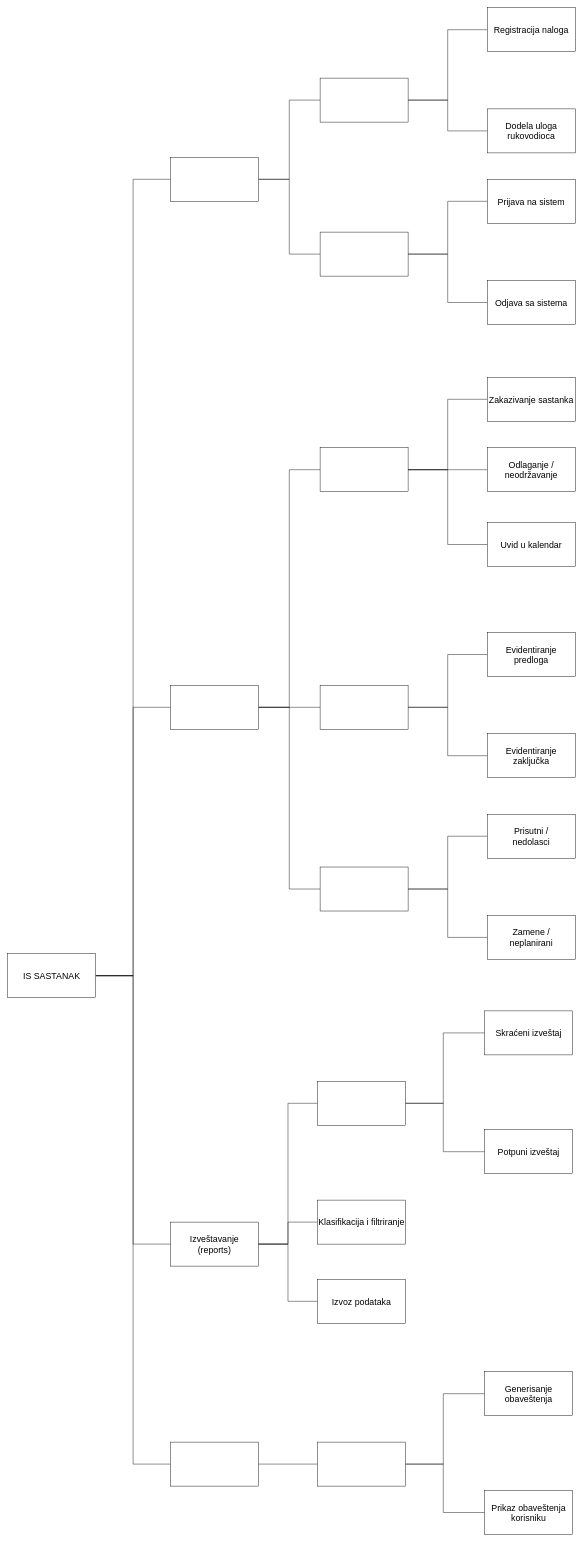
Image size: 583x1542. Some labels were removed from this diagram. The centre of each missing label's shape, as x and y in pixels:
"Evidentiranje prisustva" goes at point (364, 889).
"Korisnici (users)" goes at point (214, 179).
"Obaveštavanje" goes at point (361, 1464).
"Obaveštenja (notifications)" goes at point (214, 1464).
"Pregled izveštaja" goes at point (361, 1103).
"Prijava i autorizacija" goes at point (364, 254).
"Sastanci (meetings)" goes at point (214, 707).
"Upravljanje korisnicima" goes at point (364, 100).
"Upravljanje sastancima" goes at point (364, 469).
"Vođenje zapisnika" goes at point (364, 707).
